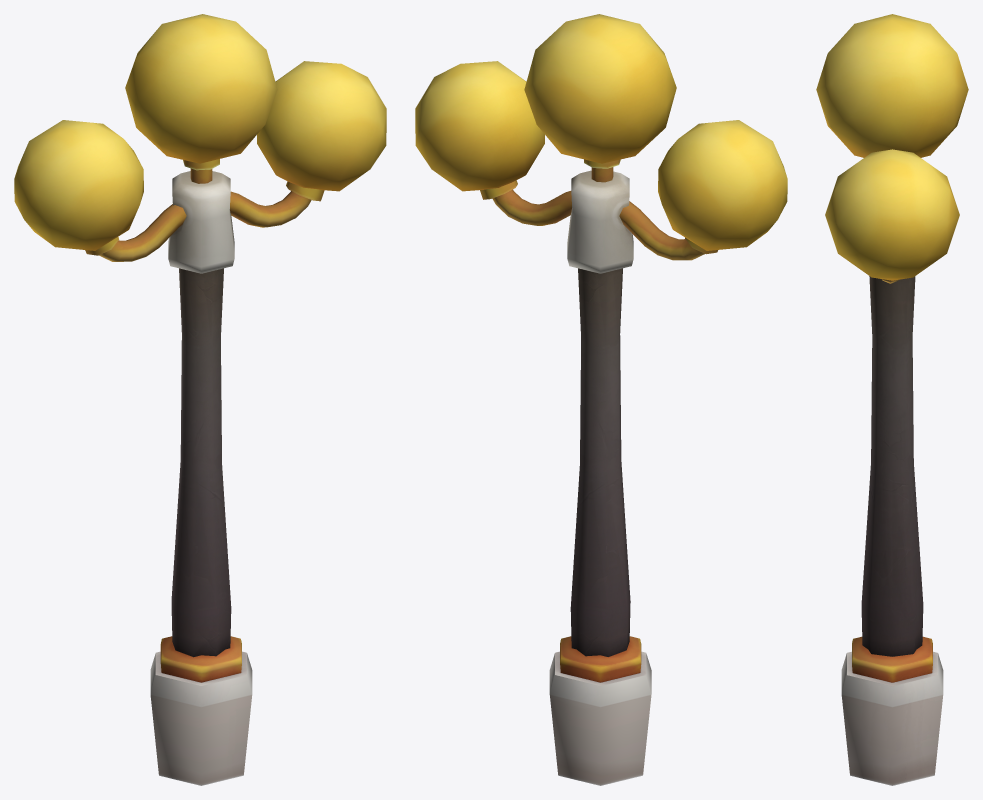
Rendered from SE_Lamp_01.fbx.
The picture shows the model from 3 angles, left to right: view 1: azimuth 30°, elevation 25°; view 2: azimuth 150°, elevation 25°; view 3: azimuth 270°, elevation 25°; orthographic projection.
Visible parts, largest first — view 1: SE_Lamp_01; view 2: SE_Lamp_01; view 3: SE_Lamp_01.
Part boxes in pixels (x1,y1,x2,y2): SE_Lamp_01: [14, 14, 386, 785]; SE_Lamp_01: [415, 14, 787, 785]; SE_Lamp_01: [816, 14, 968, 785].
Bounding box in the file's own units: 5.04 × 10.2 × 1.89.
